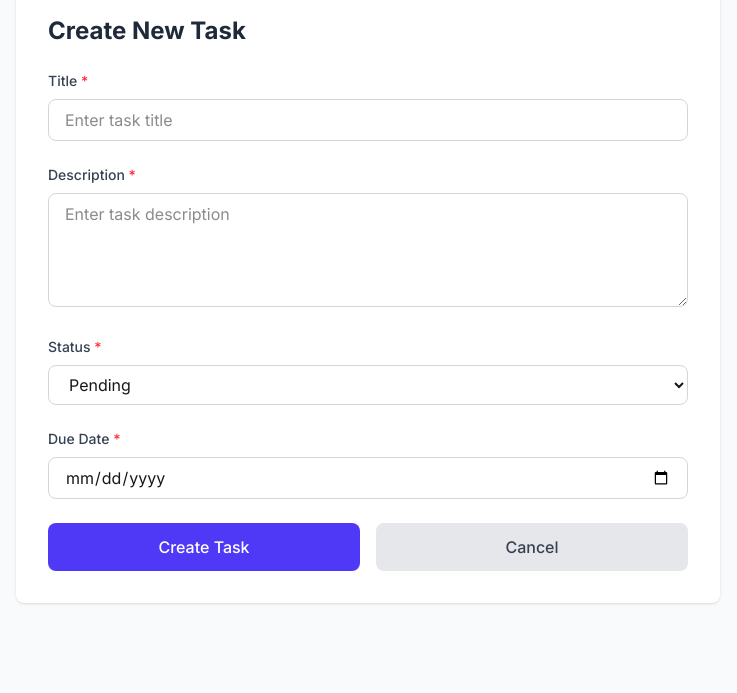
New Task Page › should show validation error for short description
This screenshot has width=737, height=693.
expect the heading "Create New Task" is shown: met, box 48,16 -> 246,45
In the text box with placeholder "Enter task description": [368, 250] box 48,193 -> 688,307, type "short"
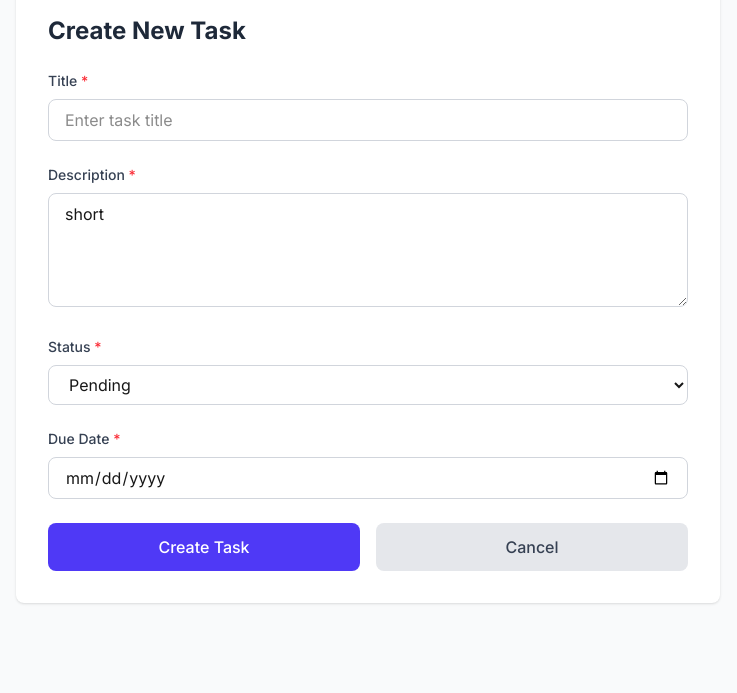
Click the button "Create Task": [204, 547] box 48,523 -> 360,571
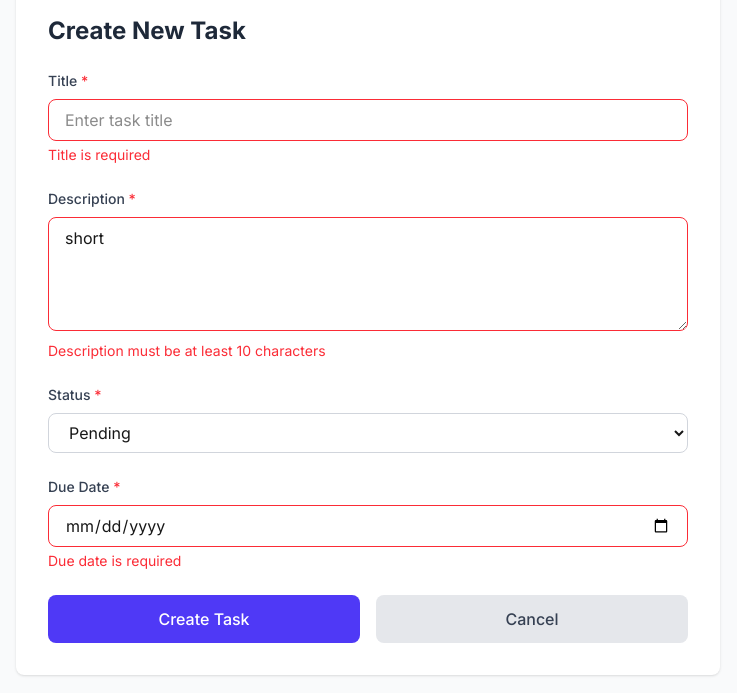
expect the text "Description must be at least 10 characters" is shown: met, box 48,342 -> 326,359
